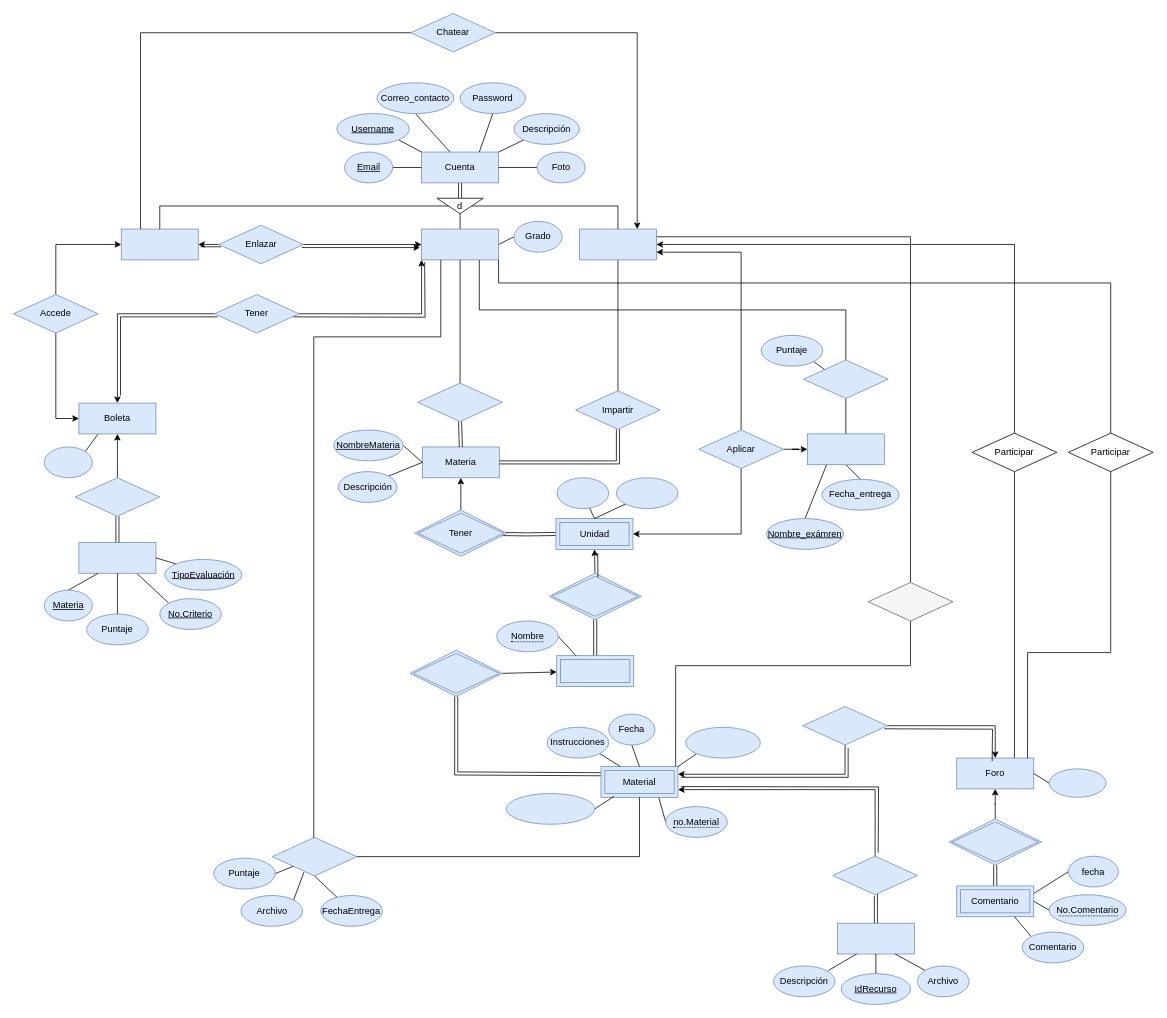
This 1167x1018 diagram has some shape labels left out. Here are the shapes that lost their labels. From the top down, the centre of each, then its label:
point (159, 244): C_Tutor
point (460, 244): C_Alumno
point (617, 244): C_Profesor
point (845, 378): Presentar
point (459, 402): Inscibir
point (68, 462): No.Boleta
point (845, 449): Exámen
point (117, 496): Registra
point (582, 493): Título
point (647, 493): No.Unidad
point (117, 557): Calificación
point (594, 595): Componerse
point (910, 601): Subir
point (455, 672): Contener
point (595, 670): Tema
point (722, 742): Límite_entrega
point (844, 725): Poseer
point (1077, 782): No.Foro
point (550, 808): Tipo(Tarea/Clase)
point (314, 856): Entregar
point (994, 841): Conformarse
point (874, 875): Ser
point (875, 938): Recurso
